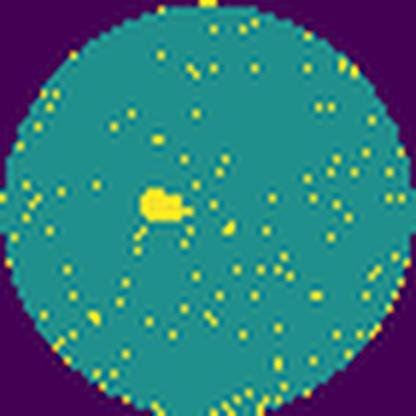Edge-Loc: (139, 182, 196, 224)
